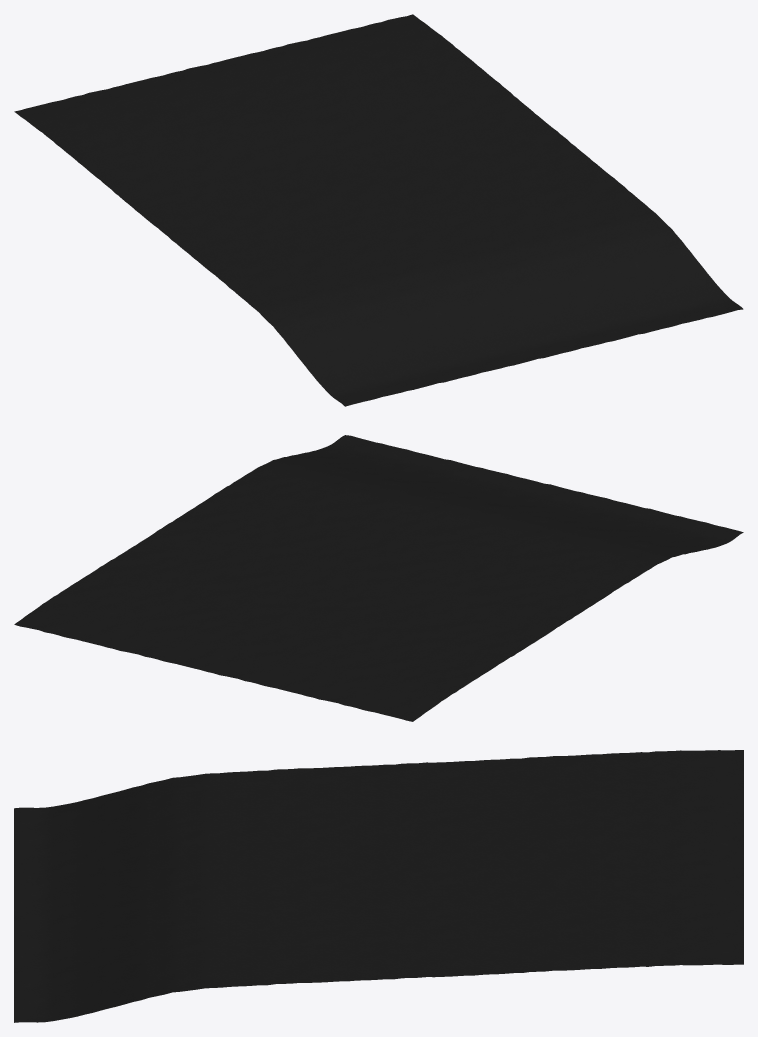
The model's file is Loiveneva hiekka.fbx.
3 renders of one model, top to bottom at view 1: azimuth 30°, elevation 25°; view 2: azimuth 150°, elevation 25°; view 3: azimuth 270°, elevation 25°, orthographic. The views are drawn at different scales.
Parts seen in each view (by area): view 1: Loiveneva hiekka; view 2: Loiveneva hiekka; view 3: Loiveneva hiekka.
Boxes of the visible parts, x1,y1,x2,y2 form: Loiveneva hiekka: (14,14,743,406); Loiveneva hiekka: (14,435,743,721); Loiveneva hiekka: (14,750,743,1022).
Size of the model in its own units: 5000 by 639 by 7188.
